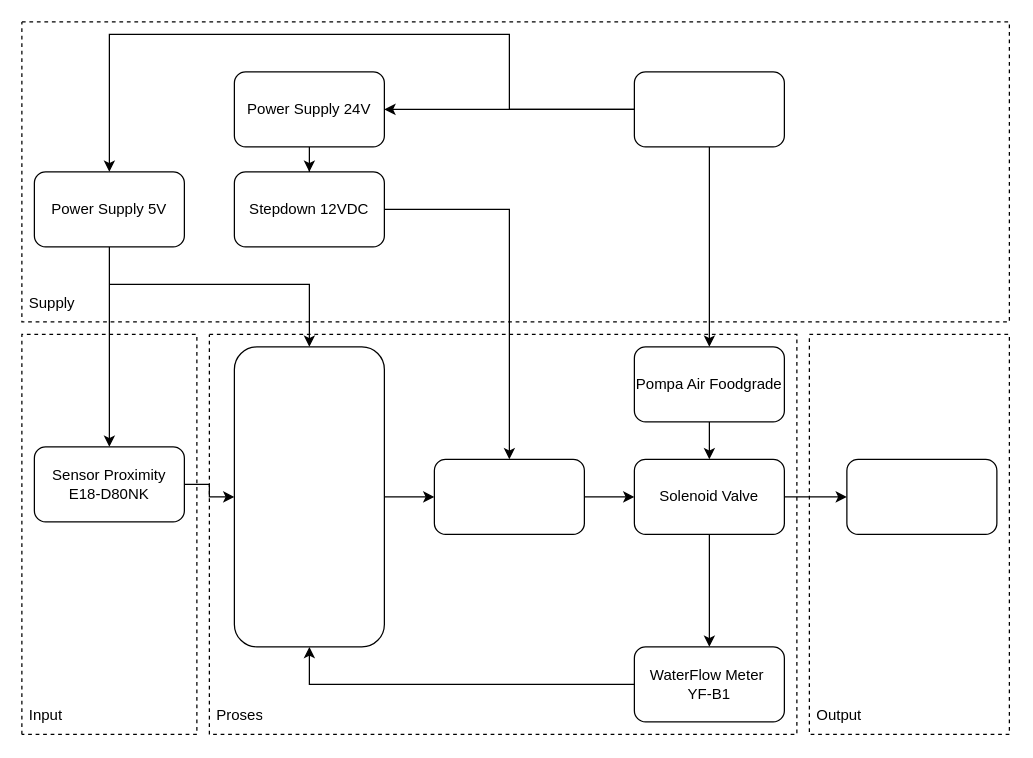
Image size: 1033x758. Some labels were removed from this diagram. Here are the shapes that lost their labels. From the top down, the centre of each, then its label:
At point 708,109: "AC 220V".
At point 308,496: "Arduino Mega2560".
At point 508,496: "Relay".
At point 921,496: "Botol Sari Lemon".
